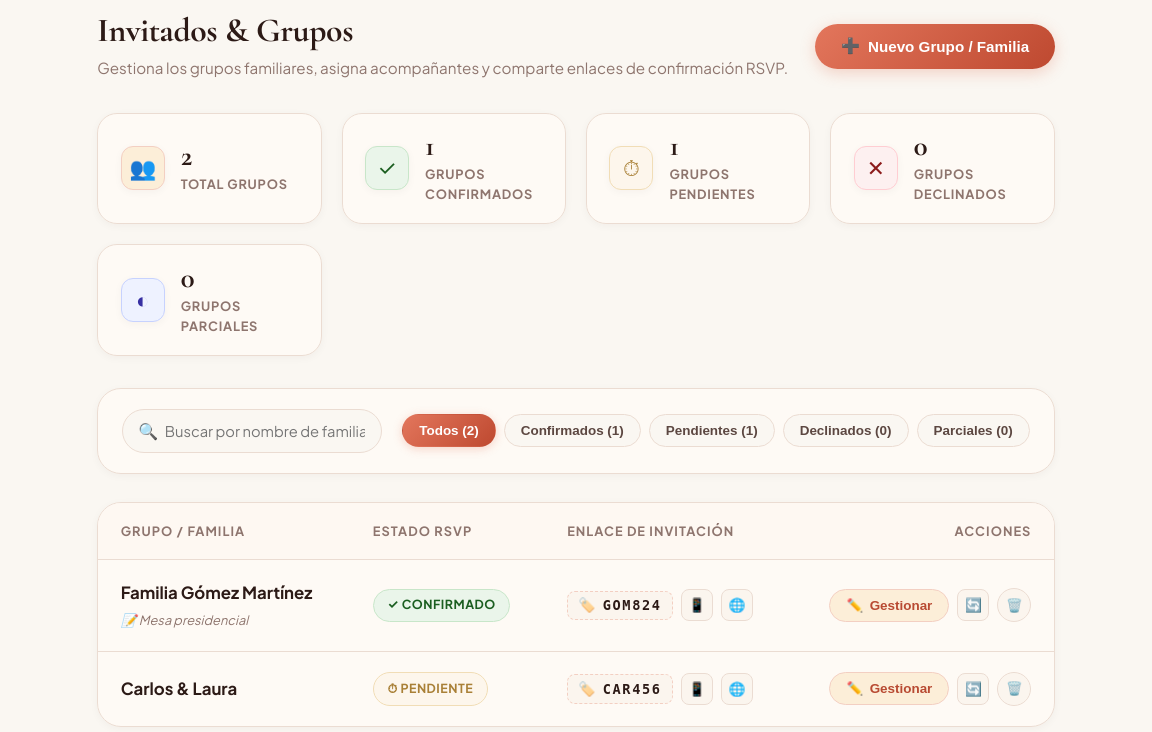
Test: Feature: Panel de Invitaciones y Gestión de QR (AdminPartiesPage) › filtra los grupos por píldoras de estado RSVP
This screenshot has width=1152, height=732.
expect the text "Familia Gómez Martínez" is shown: met, box [121,580,328,606]
Note: Filtrar solo Pendientes
Step 1. Click the button "Pendientes (1)" → click(712, 431), box [649,414,775,447]
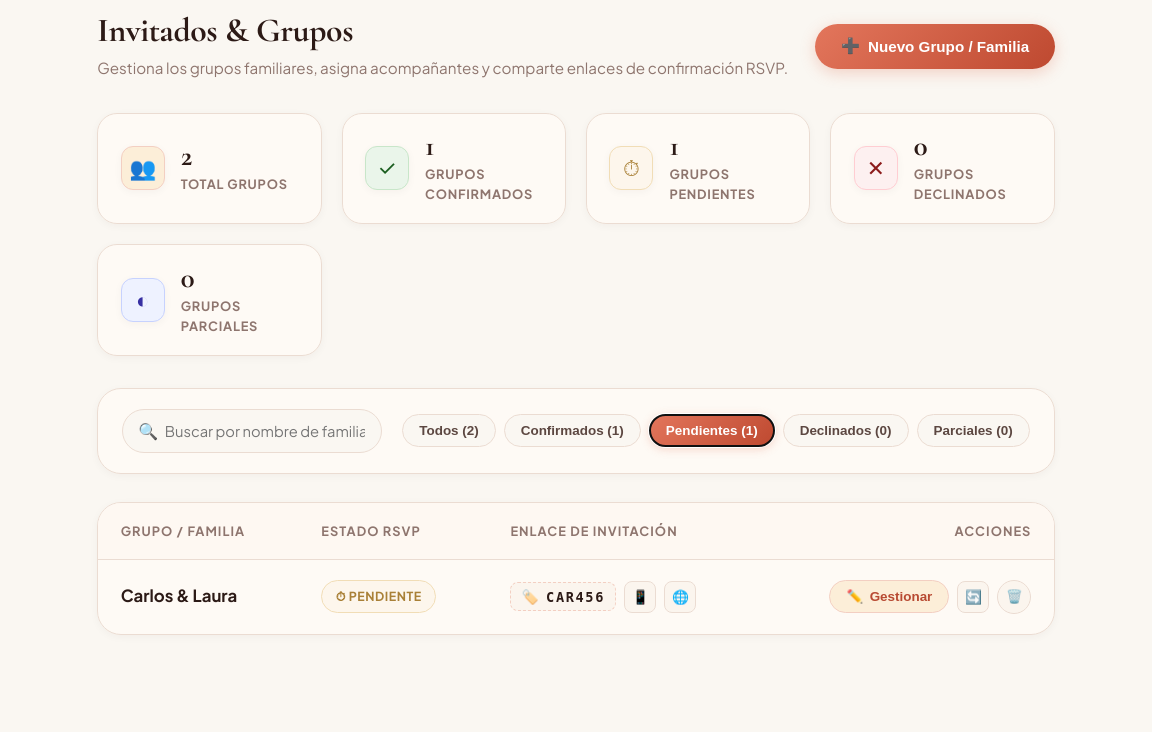
expect the text "Carlos & Laura" is shown: met, box [121,585,237,606]
expect the text "Familia Gómez Martínez" is gone: met
Note: Filtrar Confirmados
Step 2. Click the button "Confirmados (1)" → click(572, 431), box [504,414,641,447]
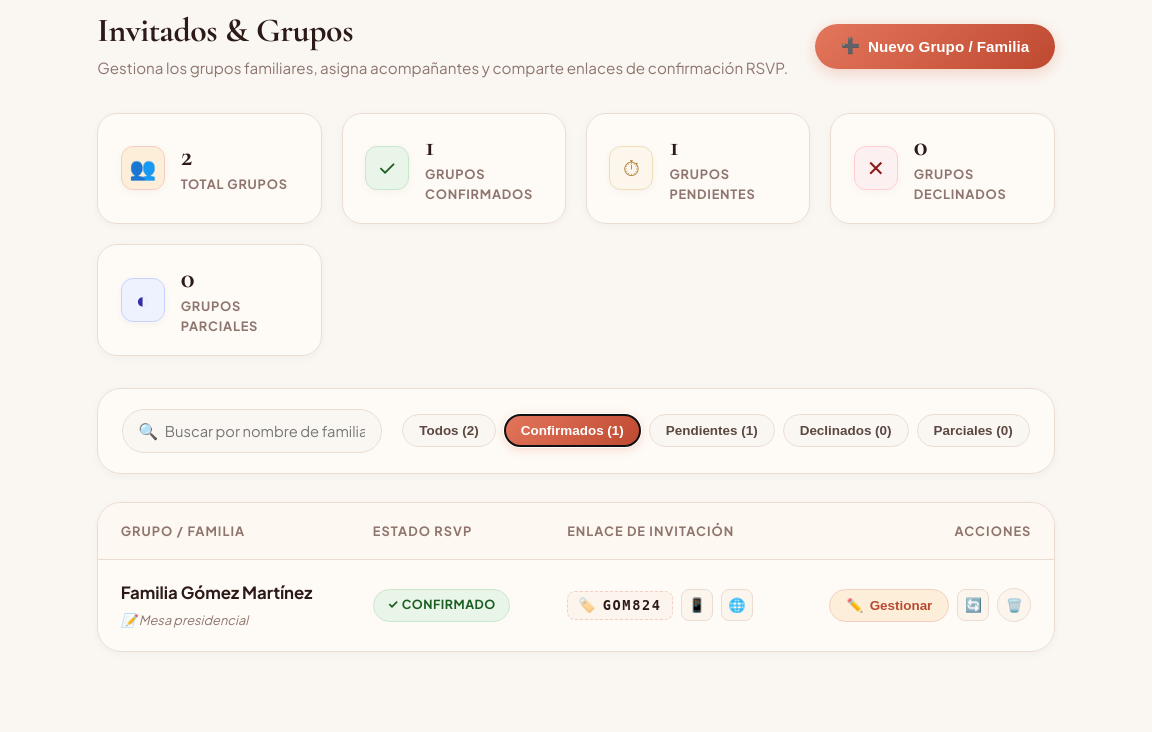
expect the text "Familia Gómez Martínez" is shown: met, box [121,580,328,606]
expect the text "Carlos & Laura" is gone: met
